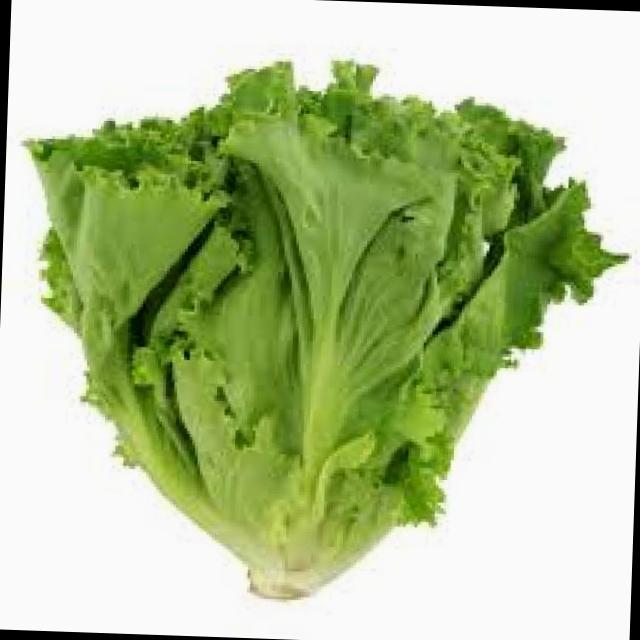Lettuce-Ready-to-Harvest: (27, 61, 622, 597)
